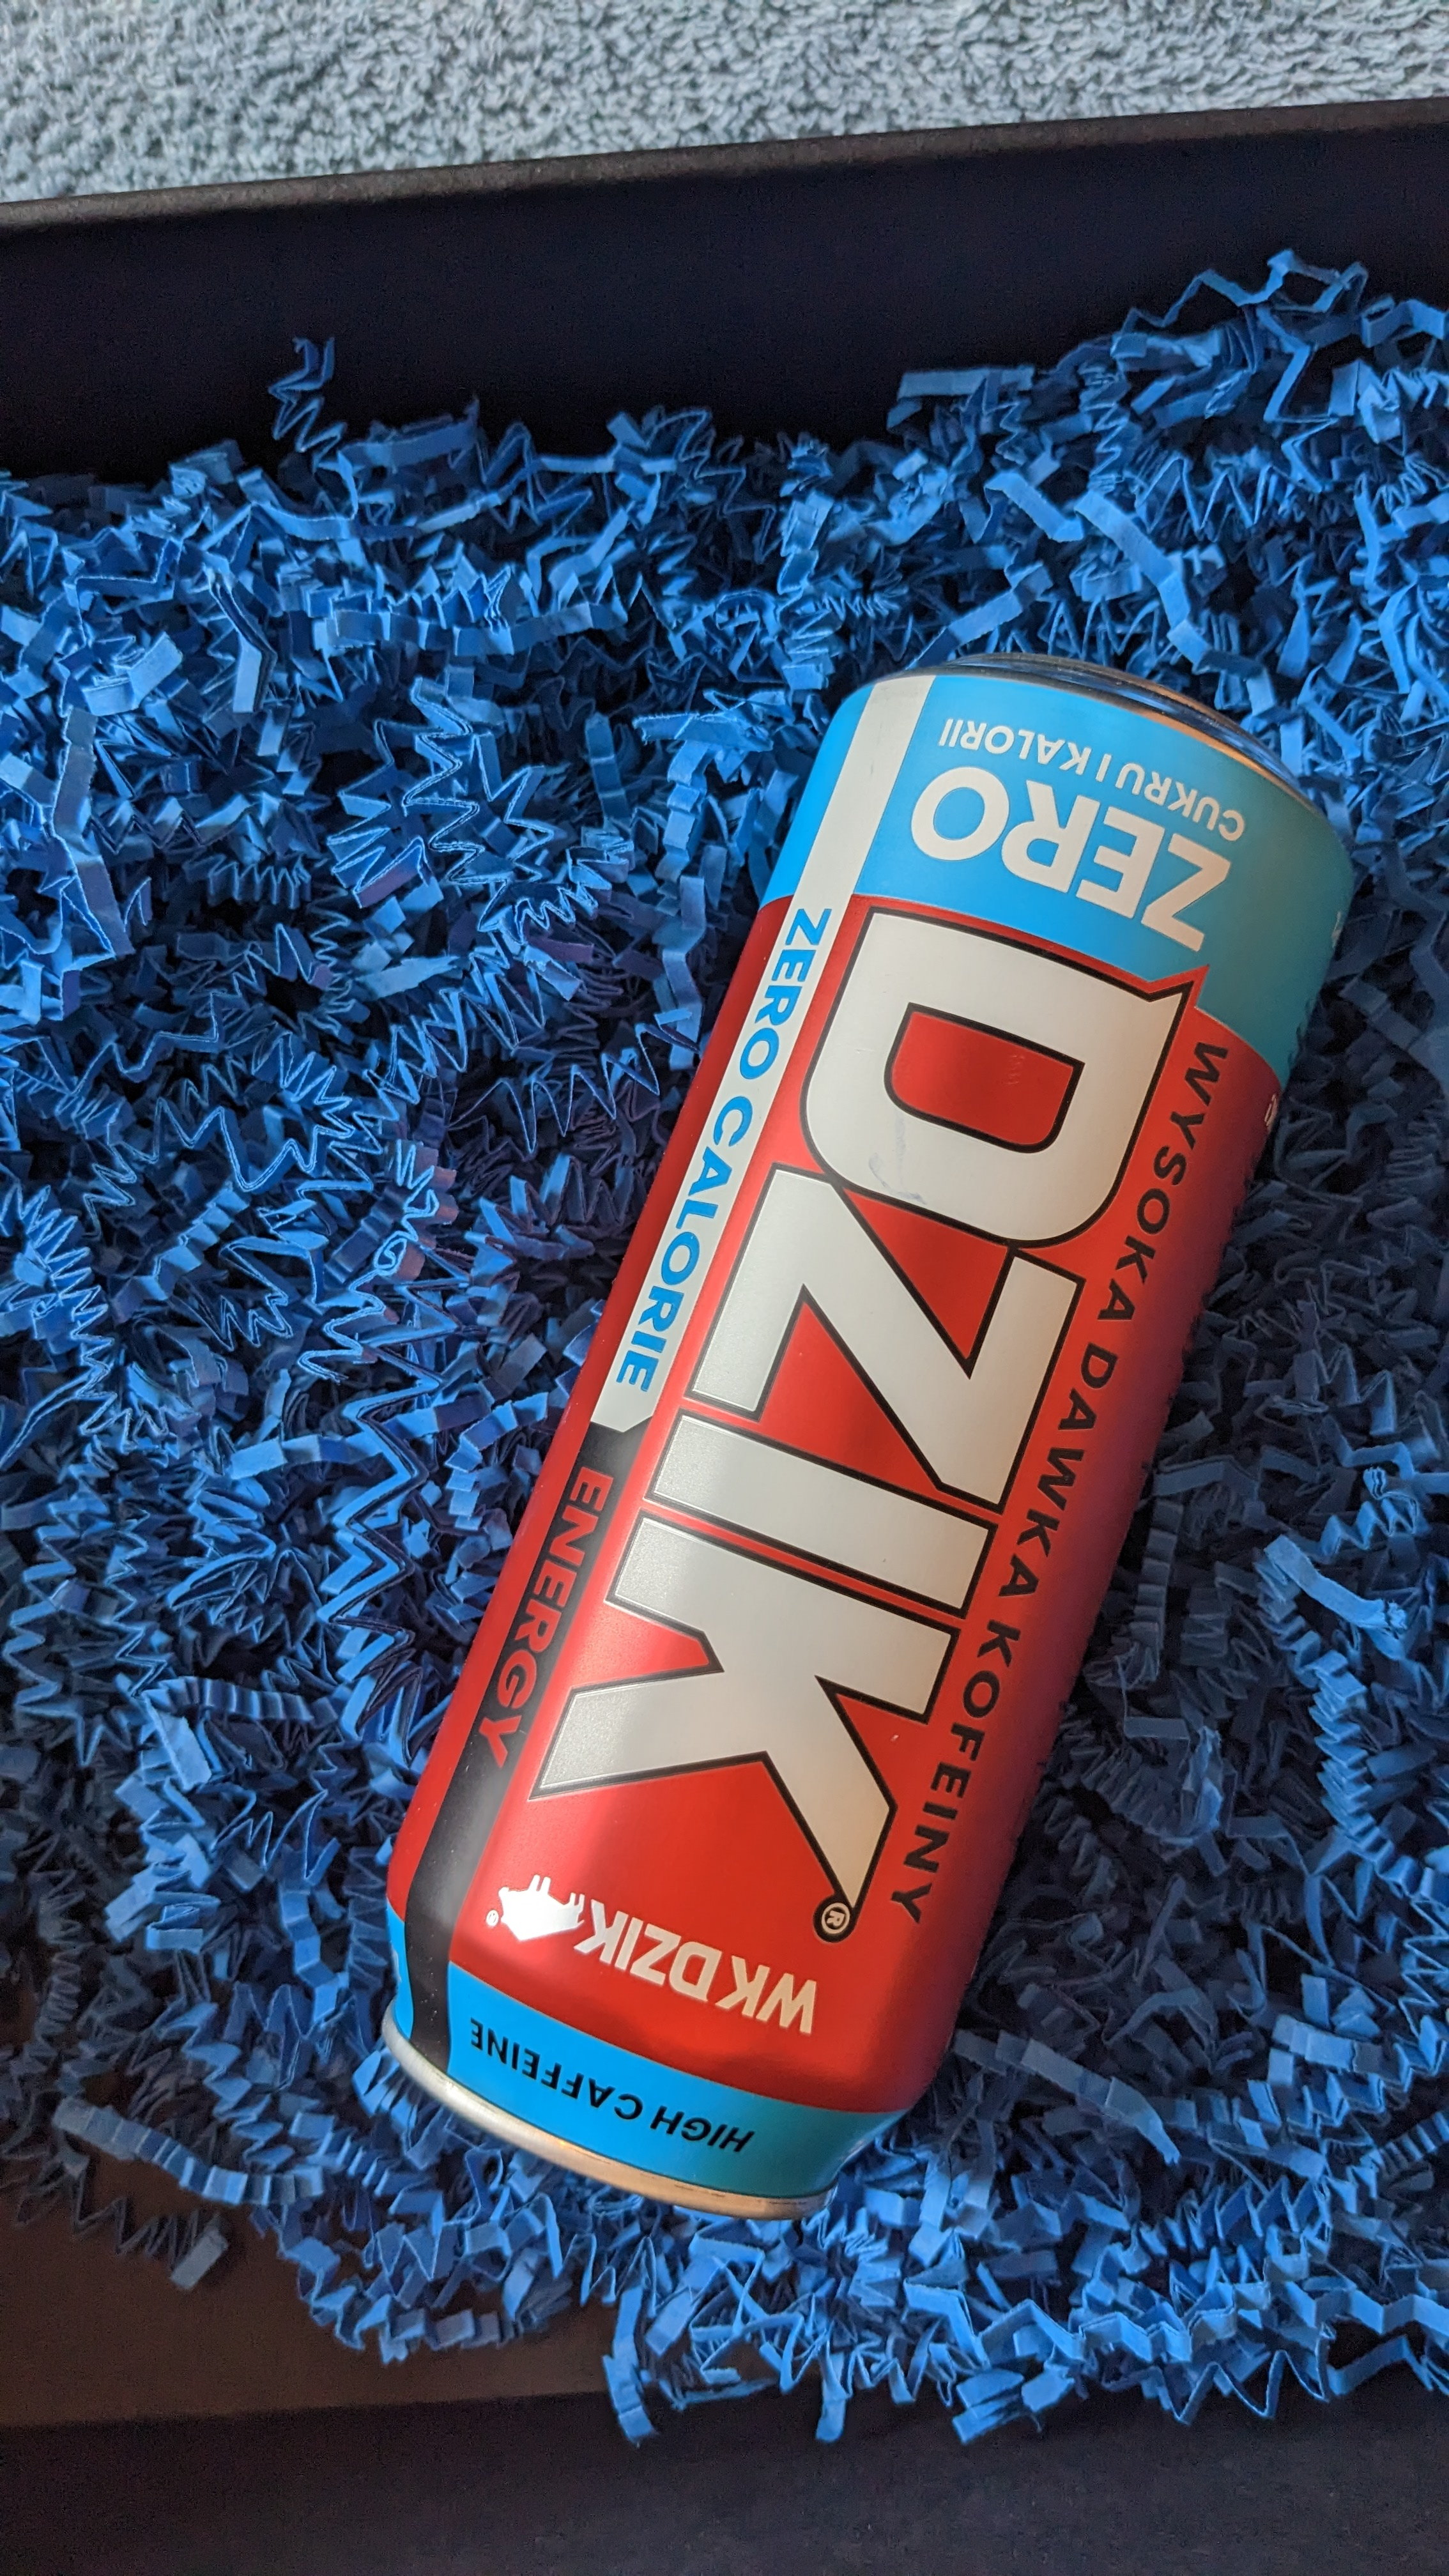dzik: (382, 665, 1341, 2238)
